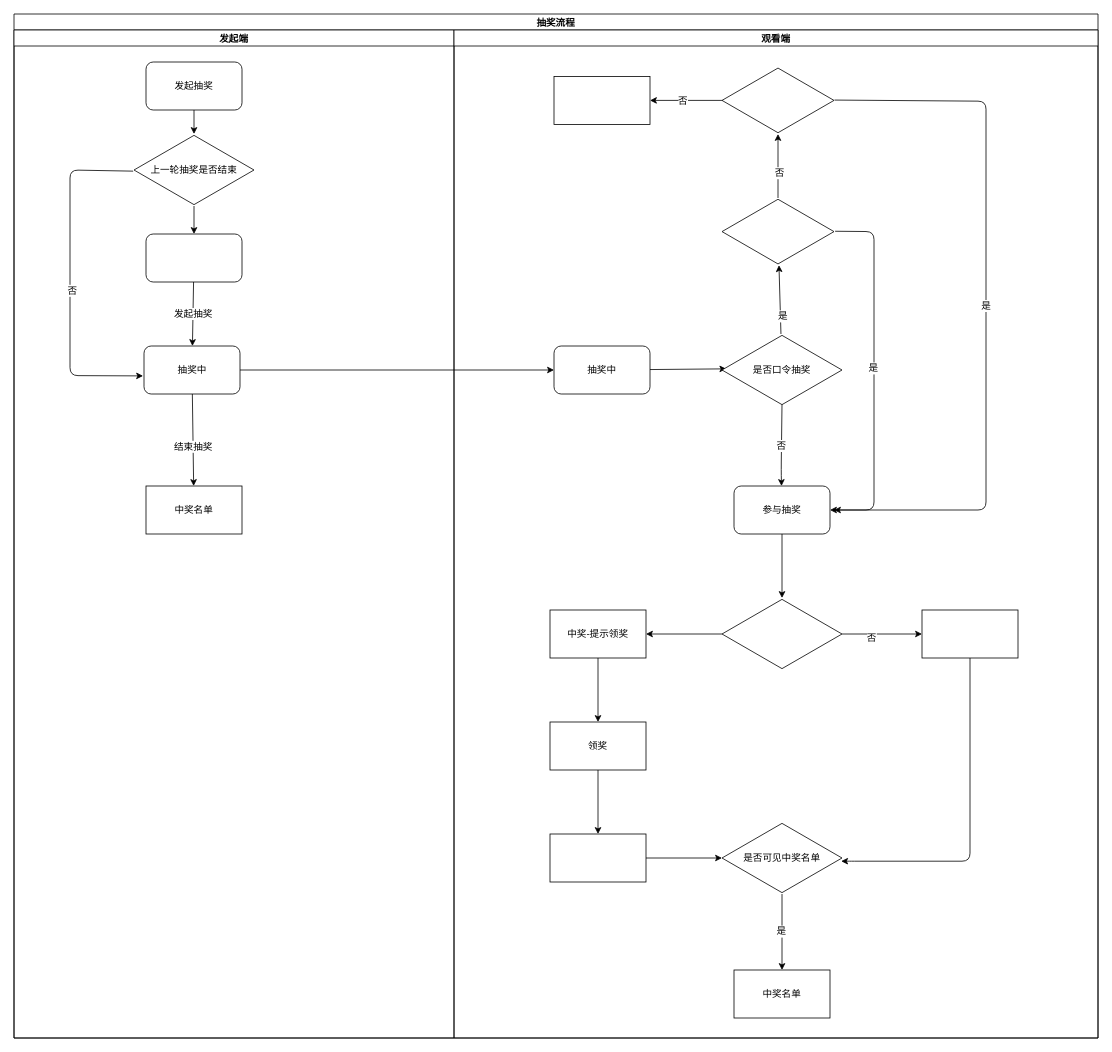
Image size: 1112x1052. Some labels were removed from this diagram. Here are the shapes that lost their labels. From the top down, the centre of each, then its label:
(x=601, y=100): 登录弹窗
(x=777, y=100): 是否登录
(x=777, y=231): 是否聊天免登录或嵌入页
(x=193, y=257): 抽奖设置
(x=781, y=633): 是否中奖
(x=969, y=633): 未中奖
(x=597, y=857): 提交领奖
